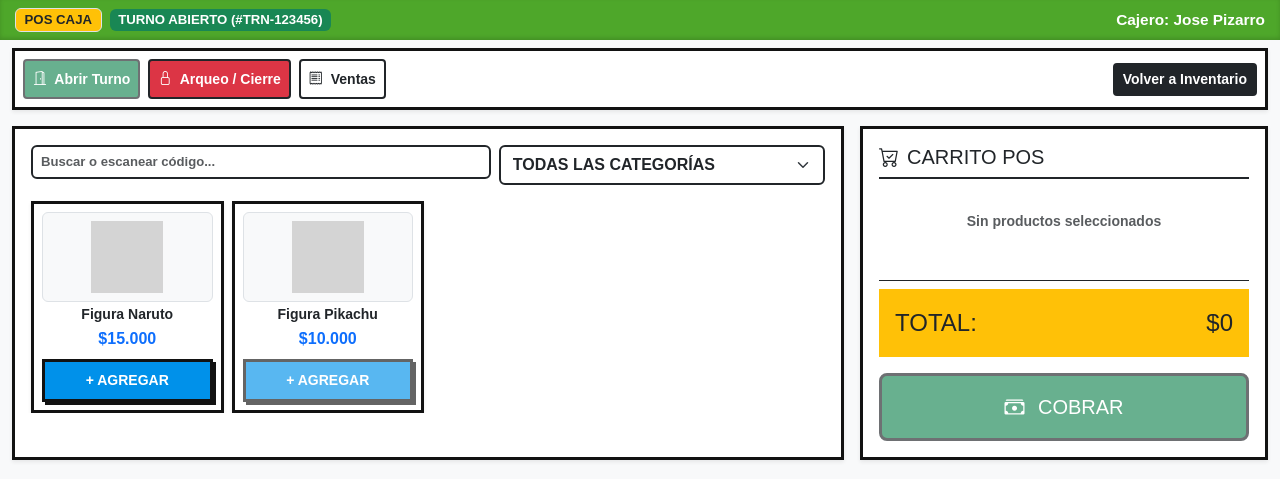
Scenario: POS › permite agregar un producto cuando el turno está abierto
The width and height of the screenshot is (1280, 479).
Click the button "+ Agregar" below "15.000".
click(127, 380)  # box left=42, top=359, right=212, bottom=402
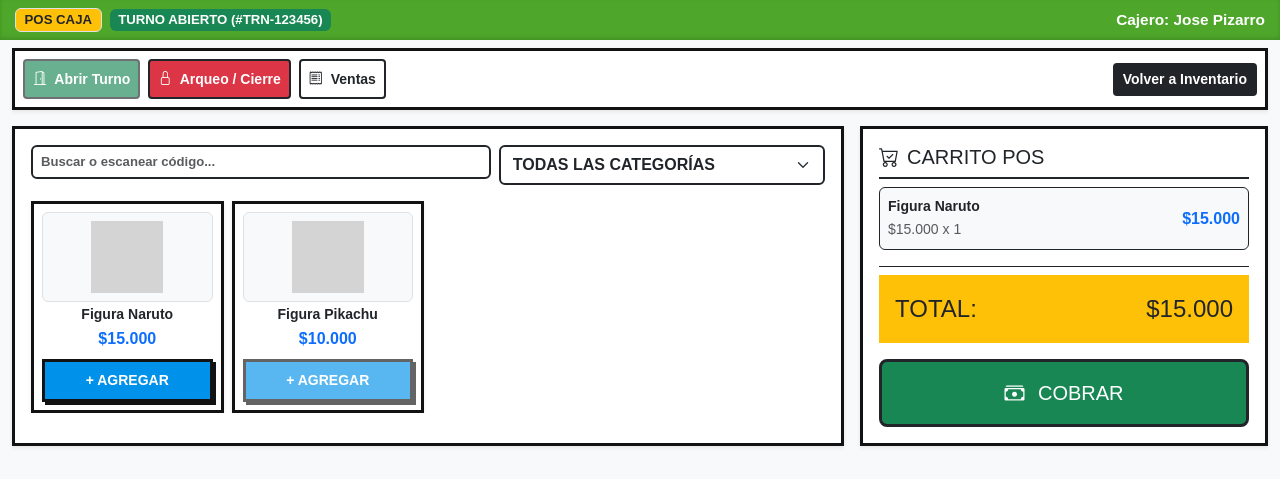
expect the number of headings "Figura Naruto" is 2: met, box left=81, top=306, right=173, bottom=322; left=888, top=196, right=980, bottom=217
expect the text "$15.000 x 1" is shown: met, box left=888, top=221, right=961, bottom=237
expect the button "COBRAR" is enabled: met, box left=879, top=359, right=1249, bottom=427
